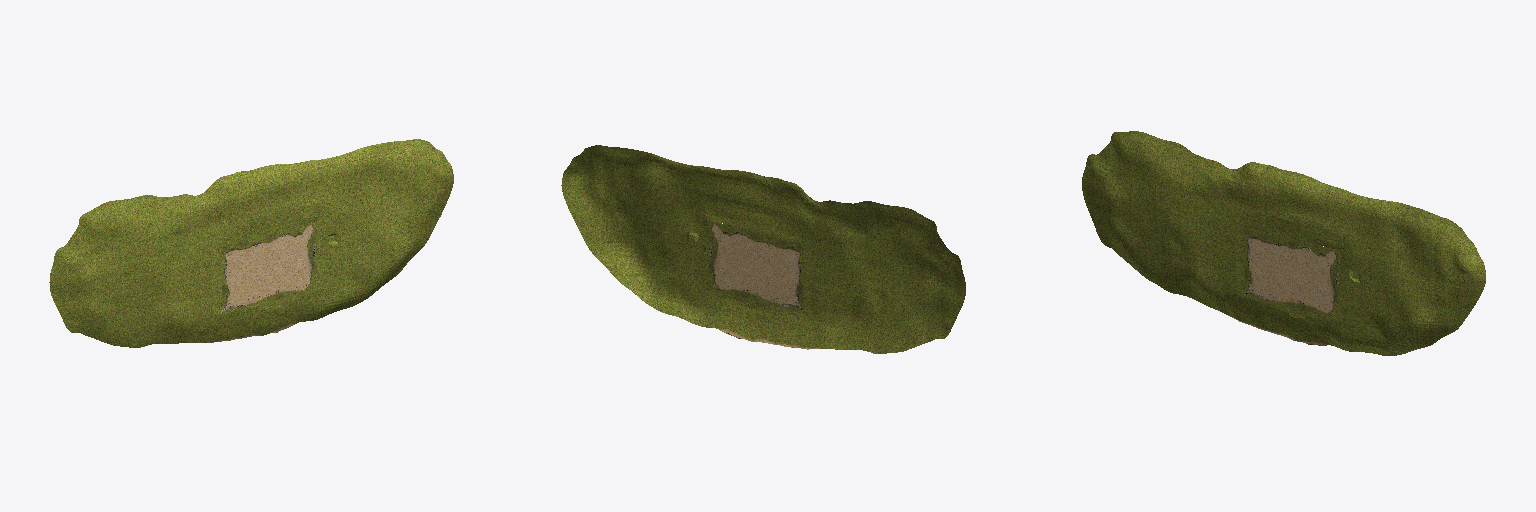
3 renders of one model, left to right at view 1: azimuth 30°, elevation 25°; view 2: azimuth 150°, elevation 25°; view 3: azimuth 330°, elevation 25°, orthographic.
Bounding box in the file's own units: 2882 × 1173 × 106.
Materials: 7 (7 with a texture image).